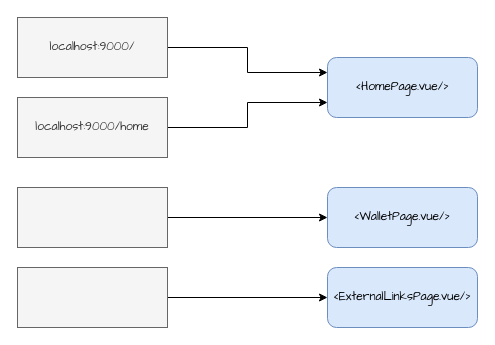
This 495x345 diagram has some shape labels left out. The shapes that lost their labels are listed below. From the top down, each one's centre as x and y in pixels, then its label:
the point at 92,217: localhost:9000/wallet
the point at 92,297: localhost:9000/links
